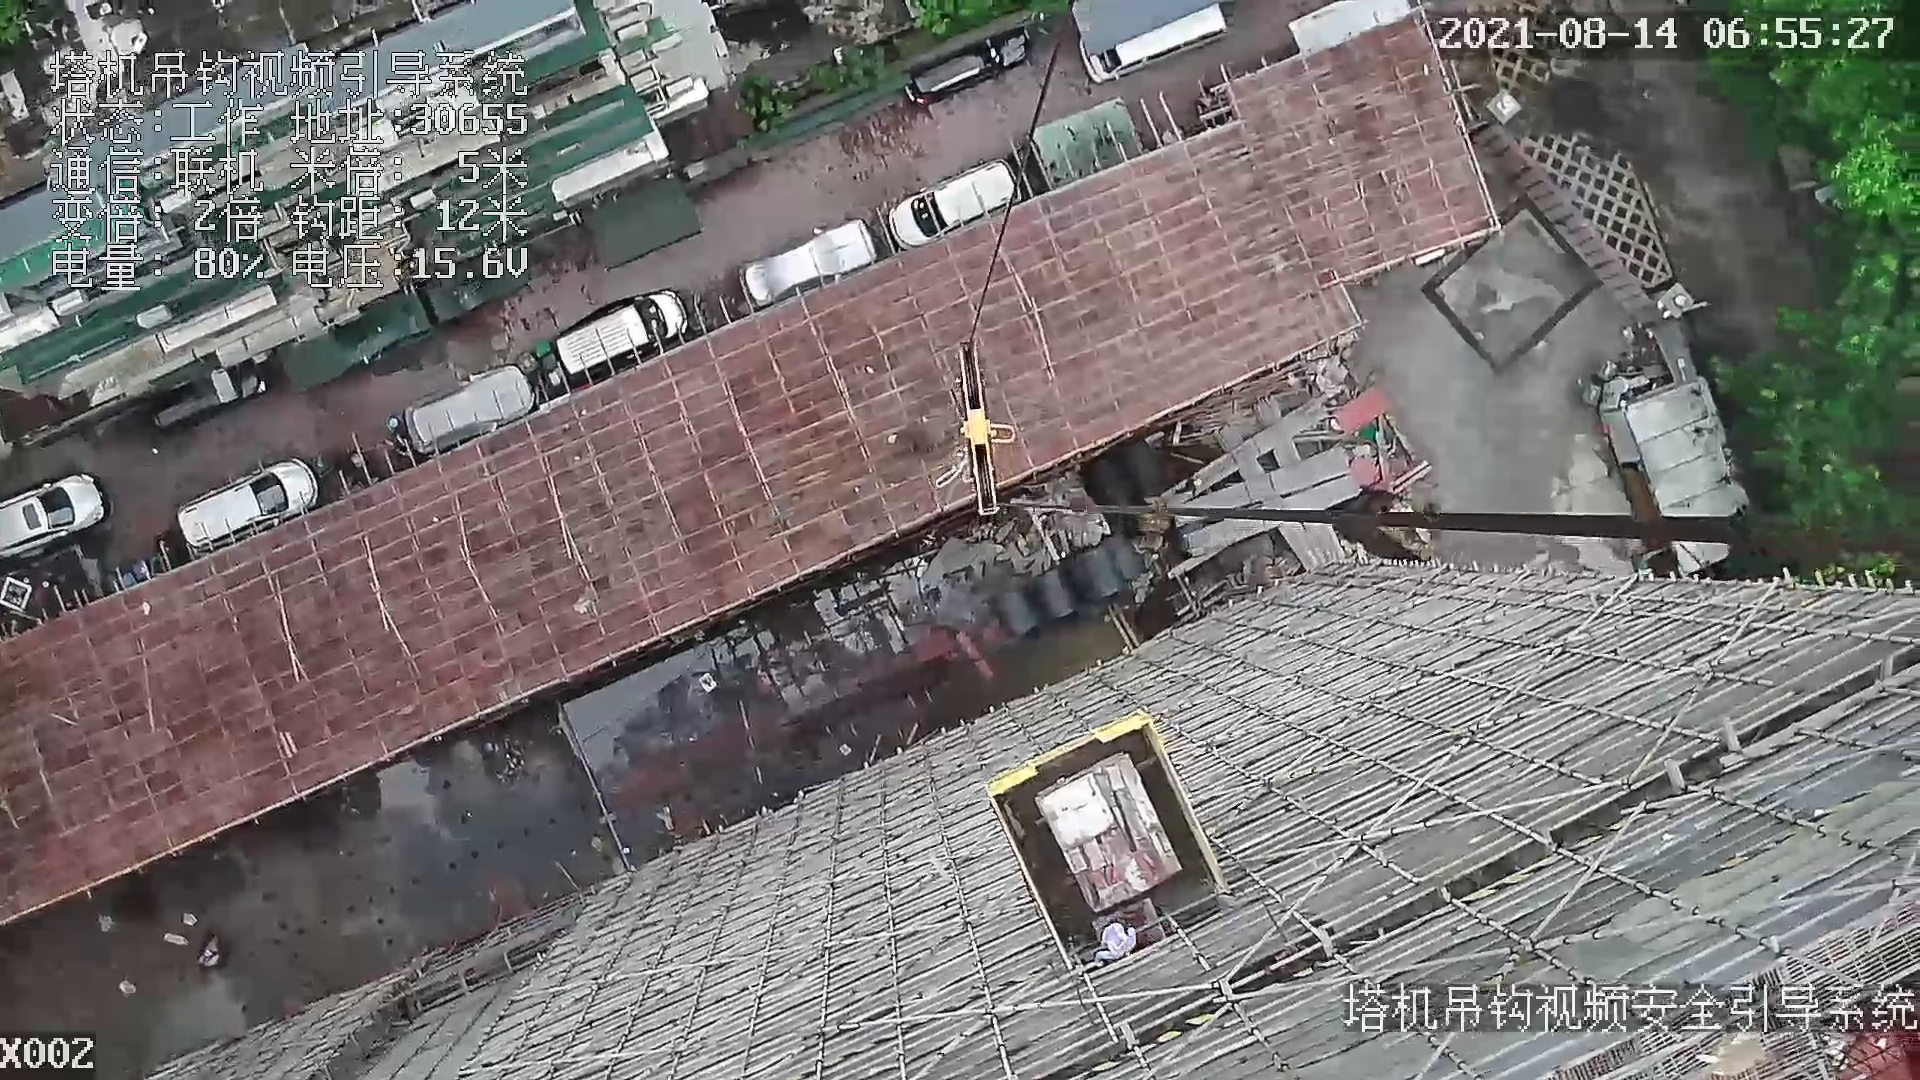board: (1033, 753, 1185, 914)
hook: (946, 339, 1018, 523)
person: (1095, 917, 1144, 967)
rebar: (1160, 398, 1328, 507), (1182, 444, 1351, 506), (1185, 521, 1282, 561), (1278, 522, 1324, 571), (1304, 523, 1344, 565)
